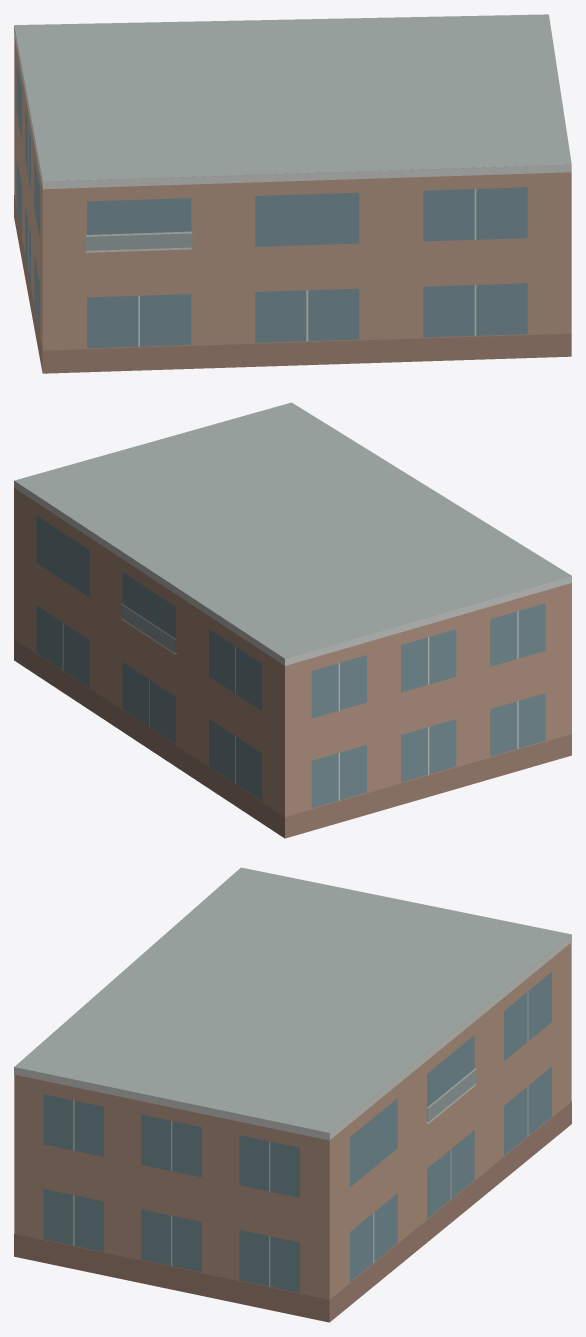
Rendered from survey-upis-32639625.glb.
The picture shows the model from 3 angles, top to bottom: view 1: azimuth 30°, elevation 25°; view 2: azimuth 150°, elevation 25°; view 3: azimuth 270°, elevation 25°; orthographic projection. The views are drawn at different scales.
Parts seen in each view (by area): view 1: survey-upis-32639625.tmp; view 2: survey-upis-32639625.tmp; view 3: survey-upis-32639625.tmp.
Part boxes in pixels (x1,y1,x2,y2): survey-upis-32639625.tmp: (14,14,571,373); survey-upis-32639625.tmp: (14,402,571,838); survey-upis-32639625.tmp: (14,867,571,1322).
Bounding box in the file's own units: 18.33 × 6.1 × 16.27.
